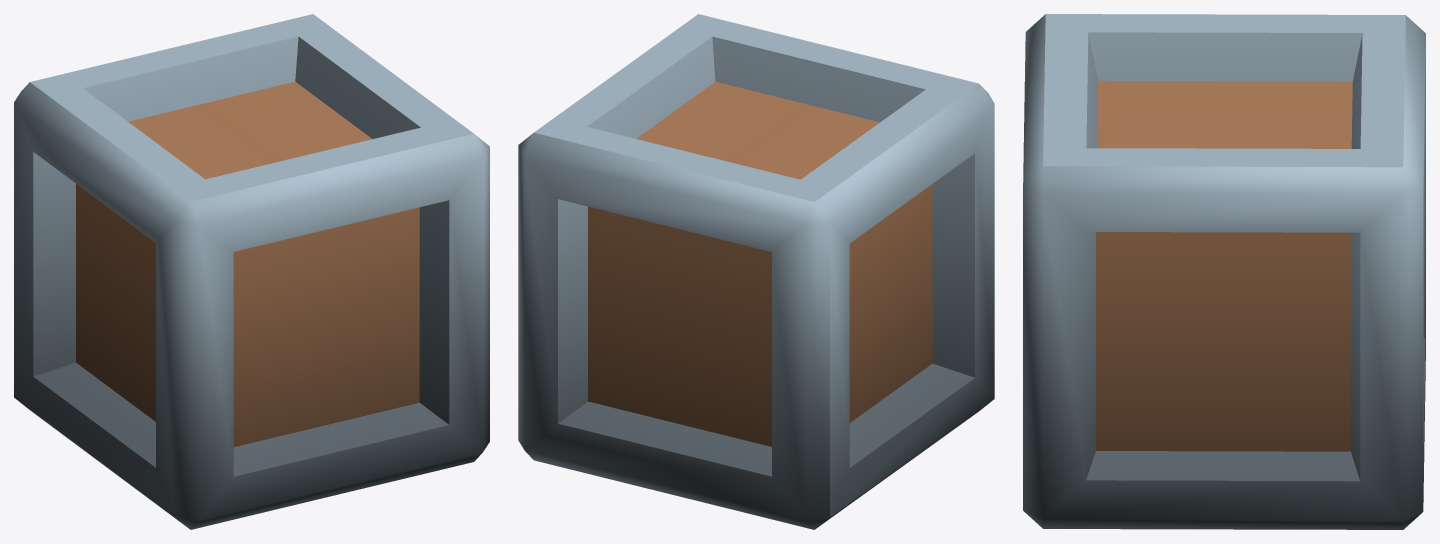
File: Crate_B.fbx
The picture shows the model from 3 angles, left to right: view 1: azimuth 30°, elevation 25°; view 2: azimuth 150°, elevation 25°; view 3: azimuth 270°, elevation 25°; orthographic projection. The views are drawn at different scales.
Visible parts, largest first — view 1: Crate_B; view 2: Crate_B; view 3: Crate_B.
Boxes of the visible parts, x1,y1,x2,y2 form: Crate_B: (14,14,489,529); Crate_B: (518,14,994,529); Crate_B: (1023,14,1425,529).
Bounding box in the file's own units: 1.01 × 1 × 1.01.
